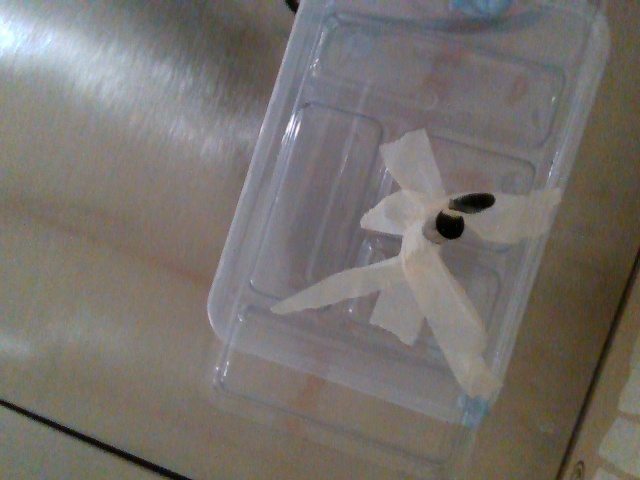test_strip: (443, 190, 493, 217)
